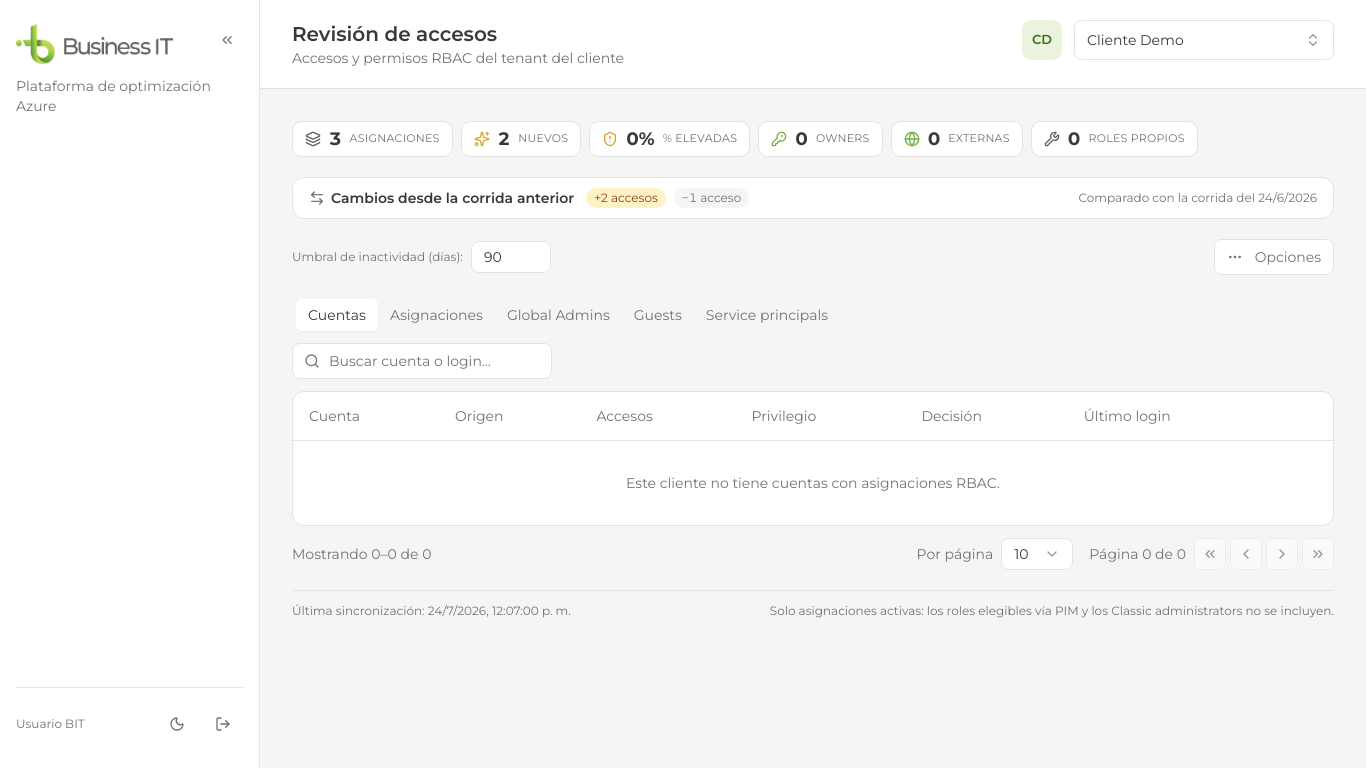
Test case: sin permiso de edición no hay selección ni barra de decisión
The image size is (1366, 768).
Press the mouse on the tab "Asignaciones": (436, 315) [378,299,495,331]
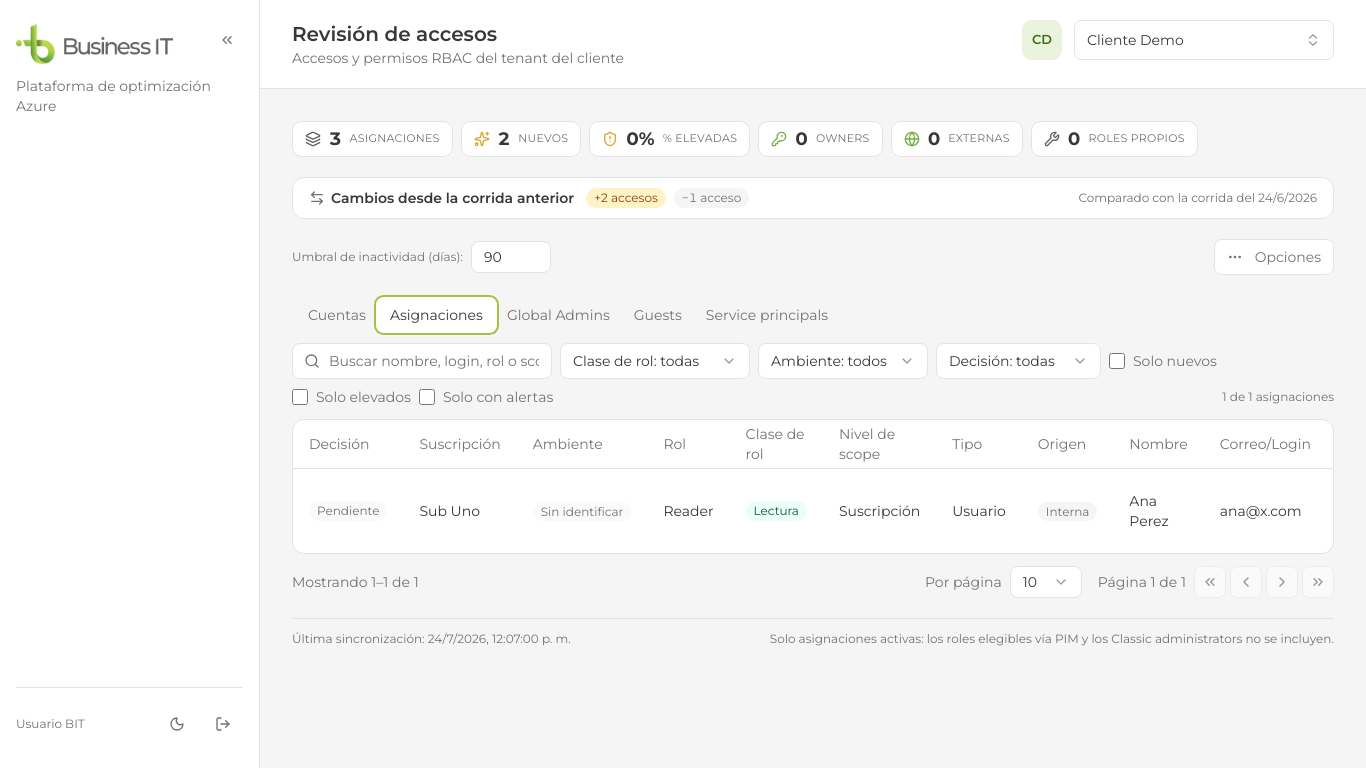
Result: the text "Ana Perez" is shown at [1129,492,1169,530]
